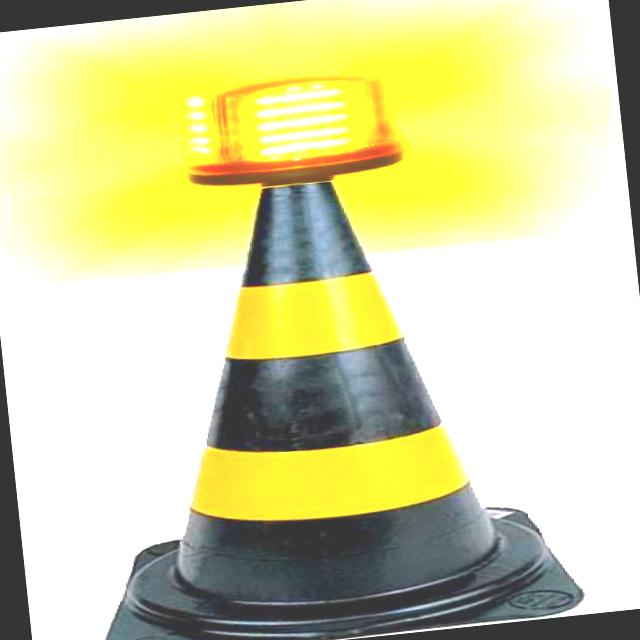traffic_cone: (96, 75, 586, 640)
